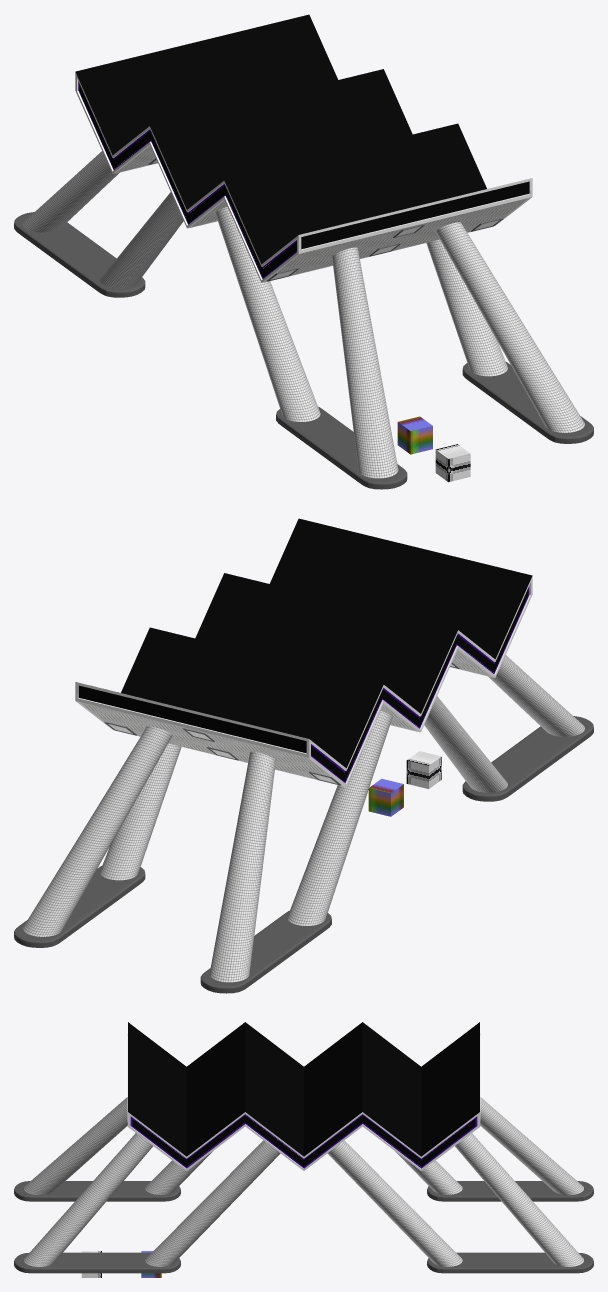
Rendered from GasStation.glb.
The picture shows the model from 3 angles, top to bottom: view 1: azimuth 30°, elevation 25°; view 2: azimuth 150°, elevation 25°; view 3: azimuth 270°, elevation 25°; orthographic projection. The views are drawn at different scales.
Parts seen in each view (by area): view 1: roof_top, Cylinder, bases, roof_struct, roof_bottom, DIGITAL_LED02, DIGITAL_LED01, bloom_PRT01; view 2: roof_top, Cylinder, bases, roof_struct, roof_bottom, DIGITAL_LED02, DIGITAL_LED01, bloom_PRT01; view 3: roof_top, Cylinder, bases, DIGITAL_LED01, roof_struct, bloom_PRT01.
Boxes of the visible parts, left/top/right/bottom form: roof_top: left=75, top=14, right=486, bottom=264; Cylinder: left=23, top=151, right=584, bottom=482; bases: left=14, top=212, right=593, bottom=489; roof_struct: left=75, top=72, right=532, bottom=282; roof_bottom: left=113, top=146, right=528, bottom=281; DIGITAL_LED02: left=301, top=181, right=529, bottom=249; DIGITAL_LED01: left=79, top=84, right=296, bottom=277; bloom_PRT01: left=78, top=81, right=296, bottom=278; roof_top: left=121, top=518, right=532, bottom=768; Cylinder: left=23, top=655, right=584, bottom=982; bases: left=14, top=716, right=593, bottom=993; roof_struct: left=75, top=521, right=532, bottom=786; roof_bottom: left=79, top=593, right=529, bottom=785; DIGITAL_LED02: left=78, top=685, right=306, bottom=753; DIGITAL_LED01: left=311, top=588, right=528, bottom=781; bloom_PRT01: left=311, top=586, right=529, bottom=782; roof_top: left=128, top=1022, right=479, bottom=1156; Cylinder: left=24, top=1097, right=583, bottom=1277; bases: left=14, top=1181, right=593, bottom=1273; DIGITAL_LED01: left=132, top=1115, right=475, bottom=1166; roof_struct: left=127, top=1033, right=480, bottom=1170; bloom_PRT01: left=130, top=1114, right=477, bottom=1168.
Size of what is drawn, in the model's own units: 20.97 by 21.85 by 57.12.
12 materials, 4 textured.
